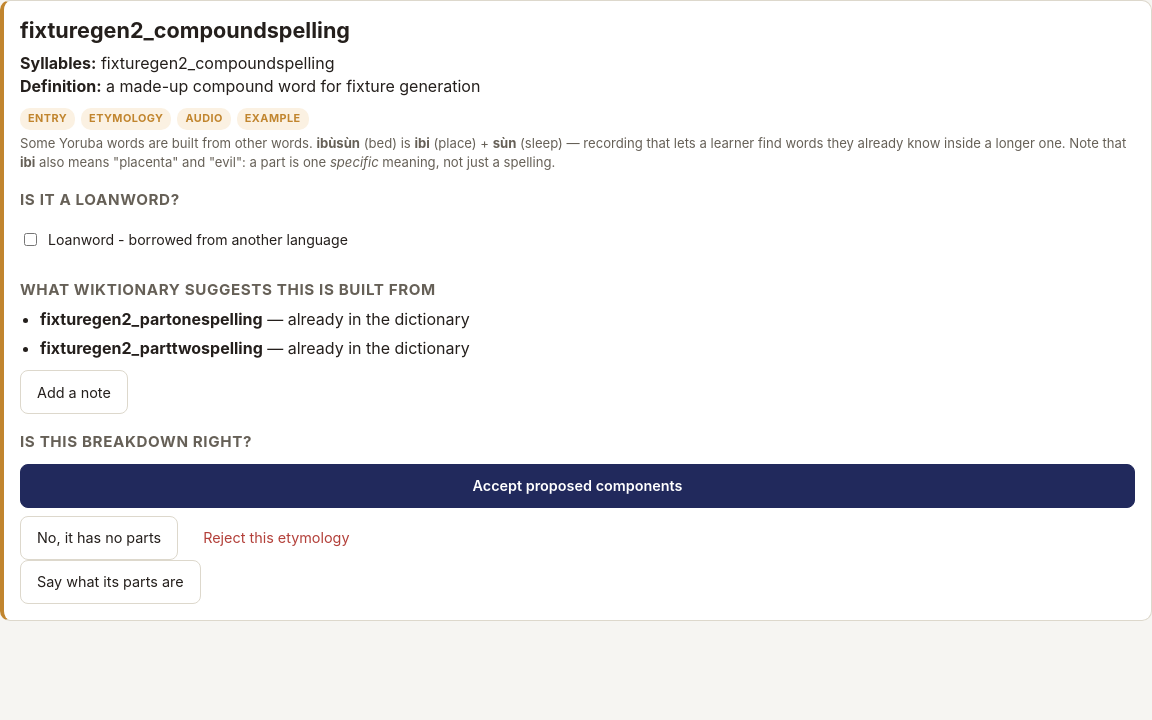
Test case: EtymologyReview › submits accept_proposed with the resolved word_ids when both components resolve
Expected: the heading "fixturegen2_compoundspelling" is shown, [20,17,350,43]
Step 1. Click the button "Accept proposed components" → {"x": 578, "y": 486}, box [20,464,1135,508]
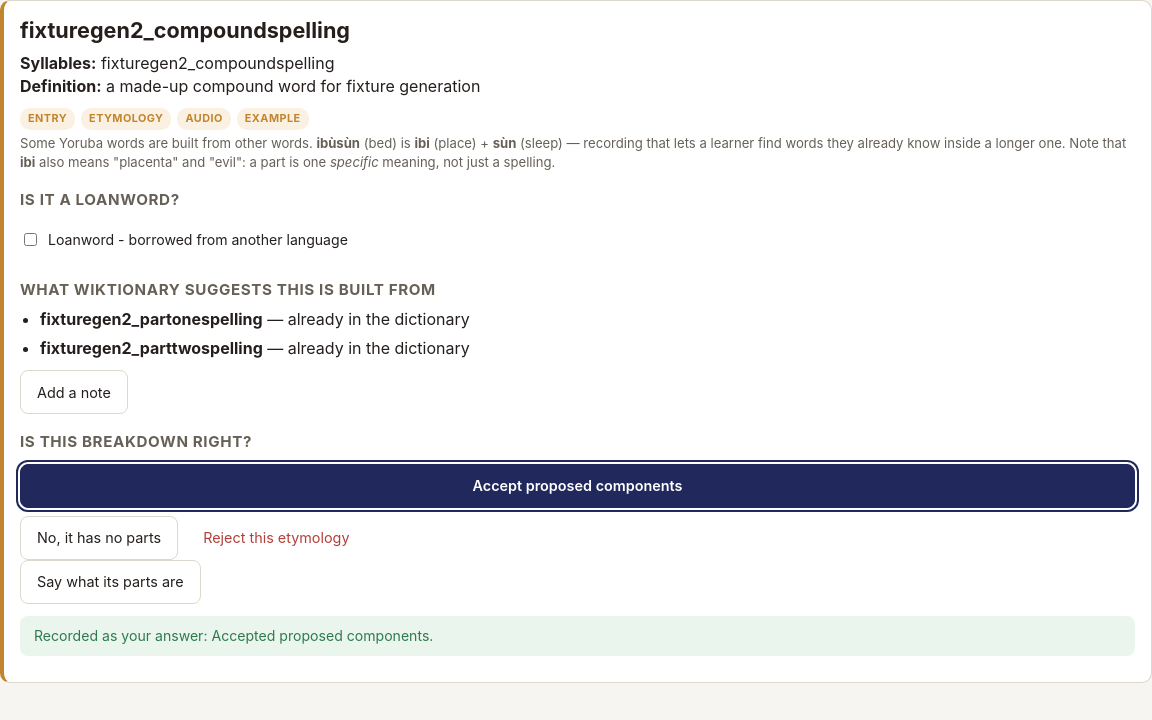
Expected: the message shows "Accepted proposed components.", [34,627,433,644]
